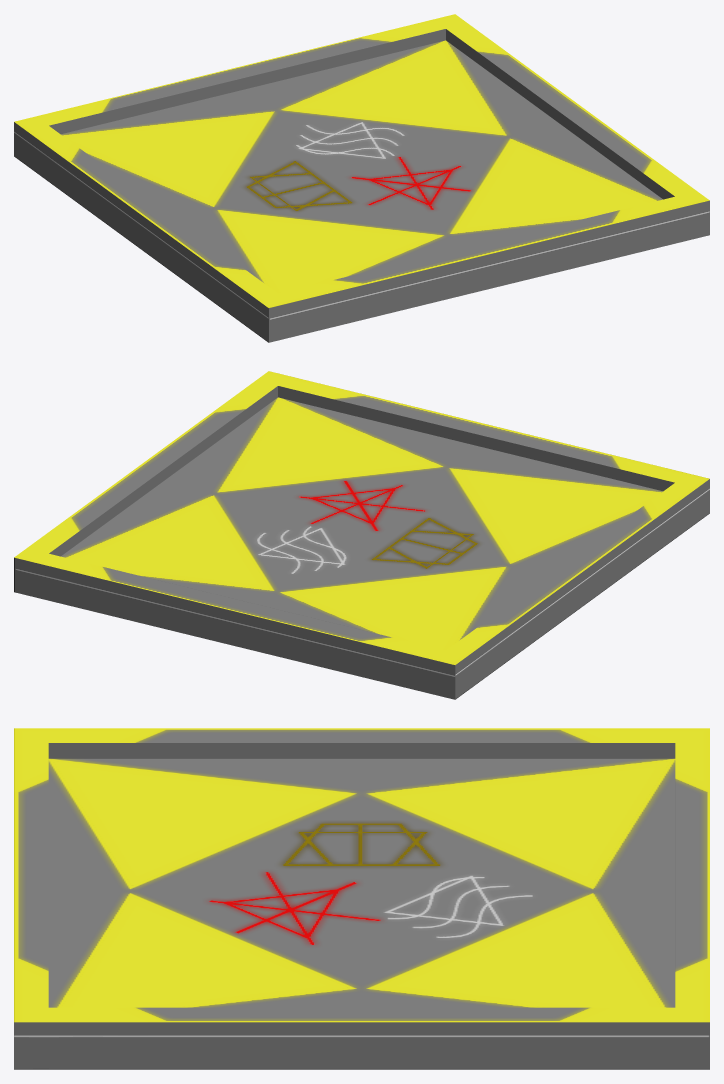
File: Change Plate.FBX
3 renders of one model, top to bottom at view 1: azimuth 30°, elevation 25°; view 2: azimuth 150°, elevation 25°; view 3: azimuth 270°, elevation 25°, orthographic. The views are drawn at different scales.
Parts seen in each view (by area): view 1: Box001; view 2: Box001; view 3: Box001.
Boxes of the visible parts, x1,y1,x2,y2 form: Box001: [14, 14, 709, 342]; Box001: [14, 371, 709, 699]; Box001: [14, 728, 709, 1069].
Size of the model in its own units: 2 by 0.15 by 2.
Materials: 1 (1 with a texture image).
